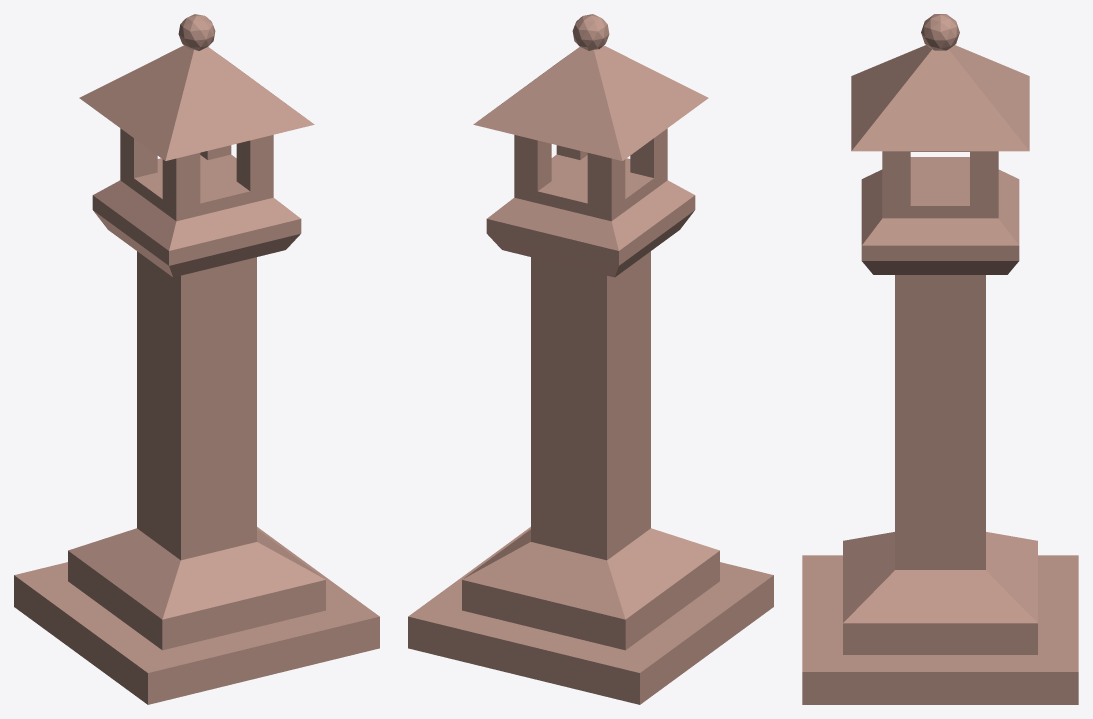
The model's file is Garden Lamp.fbx.
3 renders of one model, left to right at view 1: azimuth 30°, elevation 25°; view 2: azimuth 150°, elevation 25°; view 3: azimuth 270°, elevation 25°, orthographic. The views are drawn at different scales.
Parts seen in each view (by area): view 1: Cube; view 2: Cube; view 3: Cube.
Part boxes in pixels (x1,y1,x2,y2): Cube: (14, 14, 379, 704); Cube: (408, 14, 773, 704); Cube: (802, 14, 1078, 704).
Size of the model in its own units: 226 by 571 by 226.
